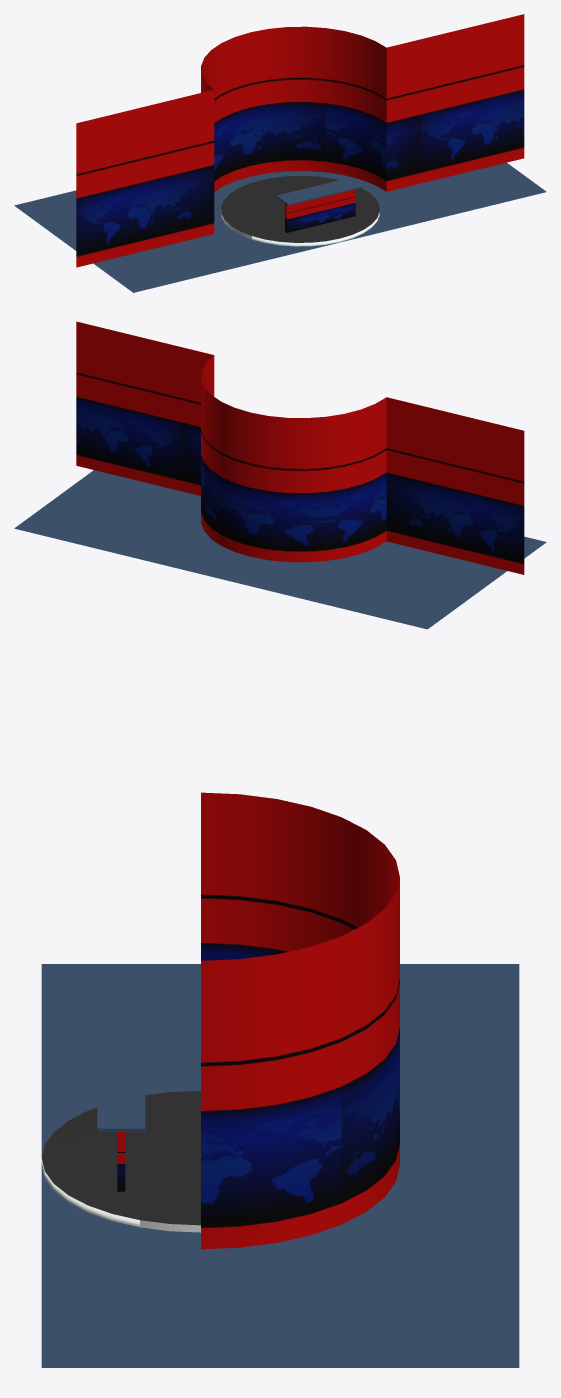
The model's file is LateNight.fbx.
The picture shows the model from 3 angles, top to bottom: view 1: azimuth 30°, elevation 25°; view 2: azimuth 150°, elevation 25°; view 3: azimuth 270°, elevation 25°; orthographic projection. The views are drawn at different scales.
Parts seen in each view (by area): view 1: B-StěnaStřed, B-StěnaR, B-StěnaL, B-Podlaha, B-Podstava, F-Podstava, F-NohaStolu, F-DeskaStolu, F-Podlaha; view 2: B-StěnaStřed, B-Podlaha, B-StěnaL, B-StěnaR; view 3: B-Podlaha, B-StěnaStřed, B-Podstava, F-Podstava, F-DeskaStolu, F-Podlaha.
Part boxes in pixels (x1,y1,x2,y2): B-StěnaStřed: (201, 26, 386, 191); B-StěnaR: (386, 14, 524, 191); B-StěnaL: (76, 90, 214, 267); B-Podlaha: (14, 162, 546, 292); B-Podstava: (221, 175, 378, 240); F-Podstava: (252, 205, 379, 246); F-NohaStolu: (285, 189, 355, 232); F-DeskaStolu: (276, 177, 364, 205); F-Podlaha: (260, 213, 399, 256); B-StěnaStřed: (201, 355, 386, 562); B-Podlaha: (14, 470, 546, 629); B-StěnaL: (386, 397, 524, 574); B-StěnaR: (76, 321, 213, 495); B-Podlaha: (41, 964, 519, 1367); B-StěnaStřed: (201, 792, 399, 1249); B-Podstava: (45, 1090, 200, 1232); F-Podstava: (41, 1107, 139, 1227); F-DeskaStolu: (97, 1054, 145, 1131); F-Podlaha: (41, 1106, 121, 1223).
Bounding box in the file's own units: 13 × 4.01 × 6.
Materials: 6 (4 with a texture image).
